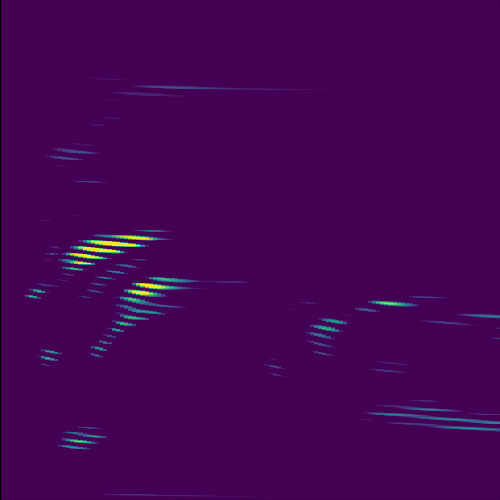semblance: (59, 232, 163, 269), (116, 275, 197, 305)
